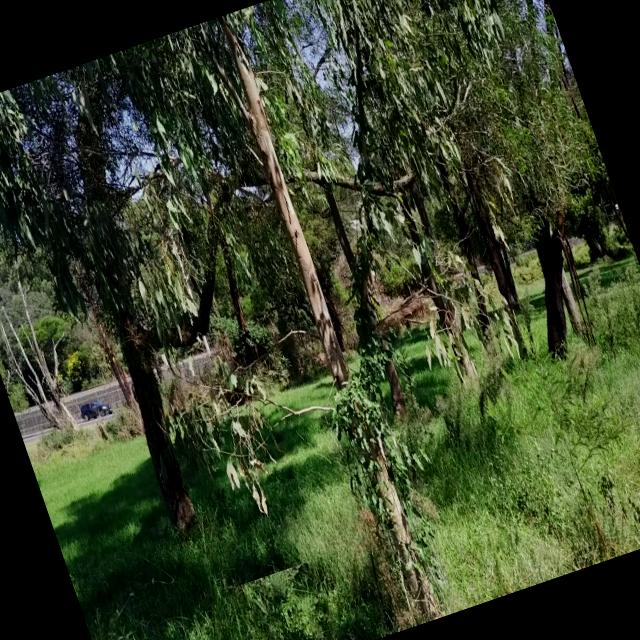Mysore-Thorn-Weed: (241, 562, 337, 640)
